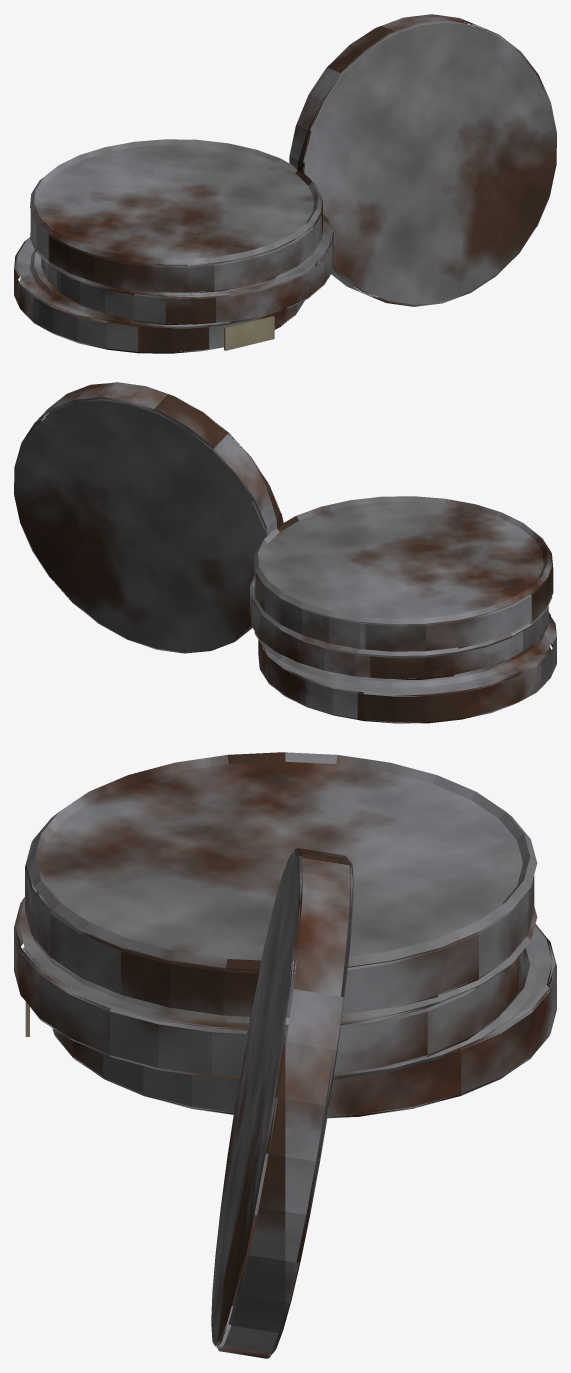
The model's file is Q04_film_reel_cans_v1.glb.
3 views of the same model, one above another, from view 1: azimuth 30°, elevation 25°; view 2: azimuth 150°, elevation 25°; view 3: azimuth 270°, elevation 25° (orthographic). The views are drawn at different scales.
Visible parts, largest first — view 1: Q04_film_reel_cans_v1; view 2: Q04_film_reel_cans_v1; view 3: Q04_film_reel_cans_v1.
Part boxes in pixels (x1=…): Q04_film_reel_cans_v1: x1=14, y1=14, x2=556, y2=353; Q04_film_reel_cans_v1: x1=14, y1=382, x2=556, y2=723; Q04_film_reel_cans_v1: x1=14, y1=752, x2=556, y2=1358.
Size of the model in its own units: 0.4 by 0.199 by 0.2118.
2 materials, 2 textured.
